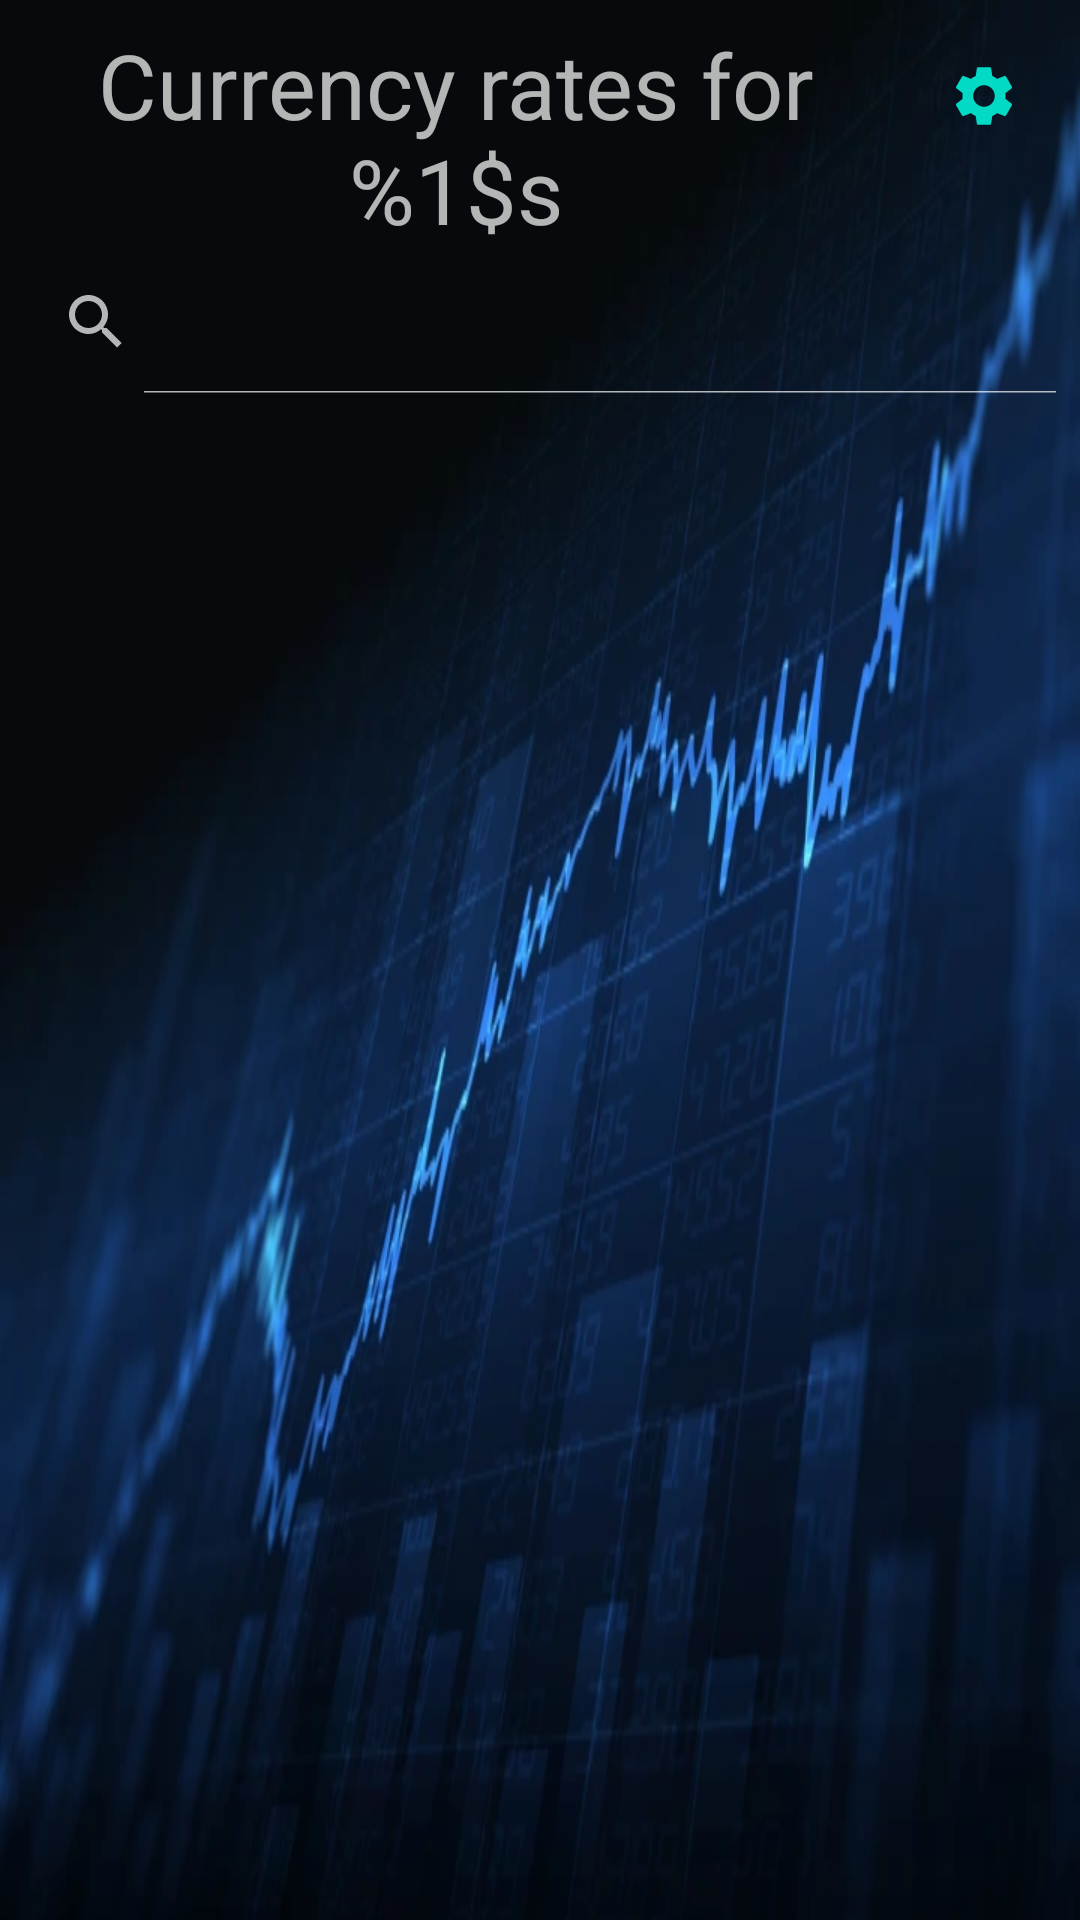

Named icons in this screenshot (1080w x 1920h) and their bounding boxes, [left=x1, top=y1, right=x2, bottom=y2]:
settings: [left=956, top=67, right=1012, bottom=125]
